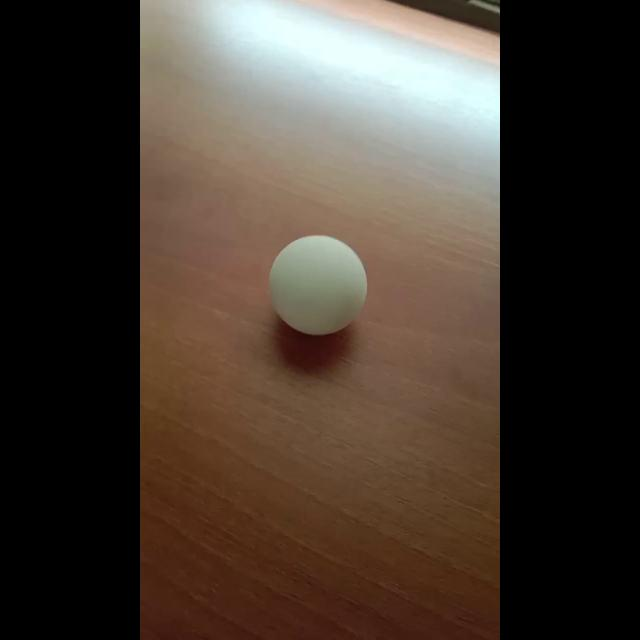white ball: (268, 234, 368, 336)
